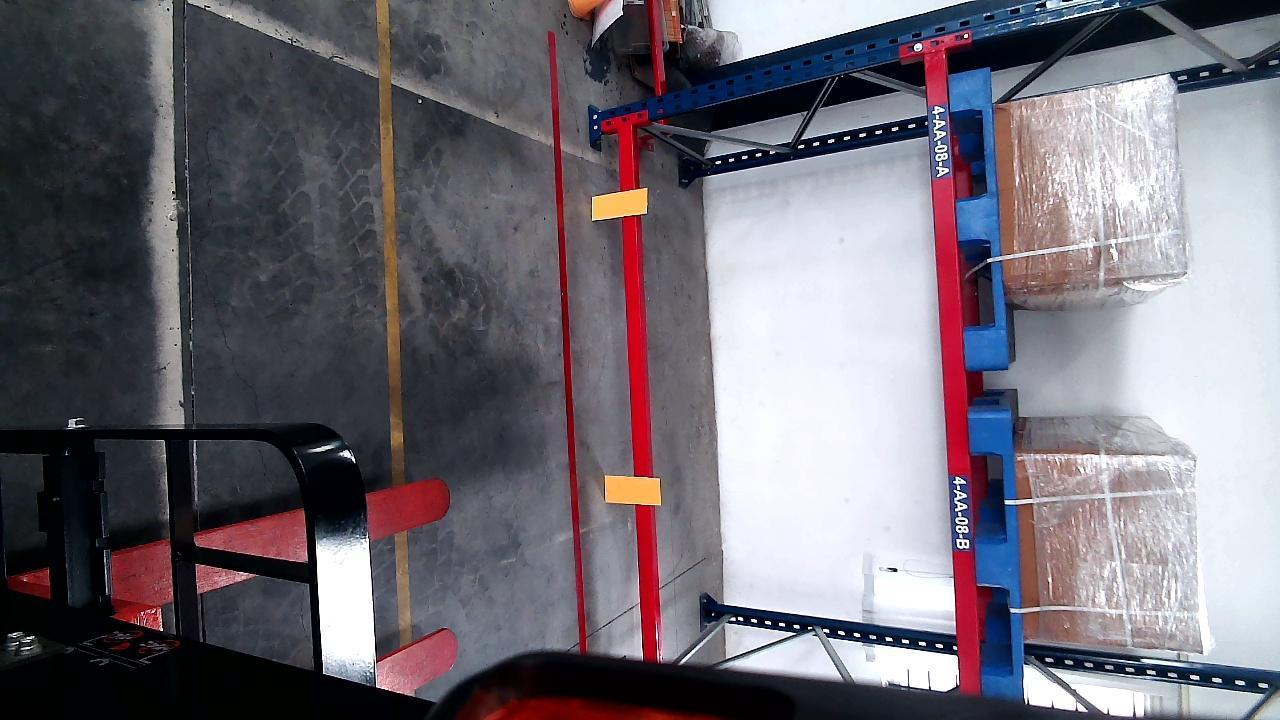h_rack: (926, 50, 981, 684), (618, 119, 656, 656)
orange_strip: (590, 187, 646, 220), (605, 474, 660, 505)
red_line: (545, 29, 593, 651)
small_pallet: (951, 70, 1004, 368), (973, 416, 1025, 683)
yellow_line: (377, 6, 417, 648)
